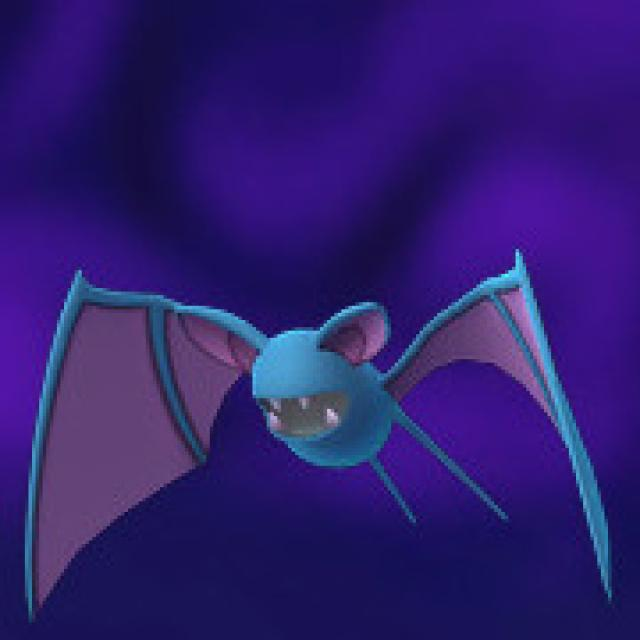Zubat: (186, 267, 530, 514)
